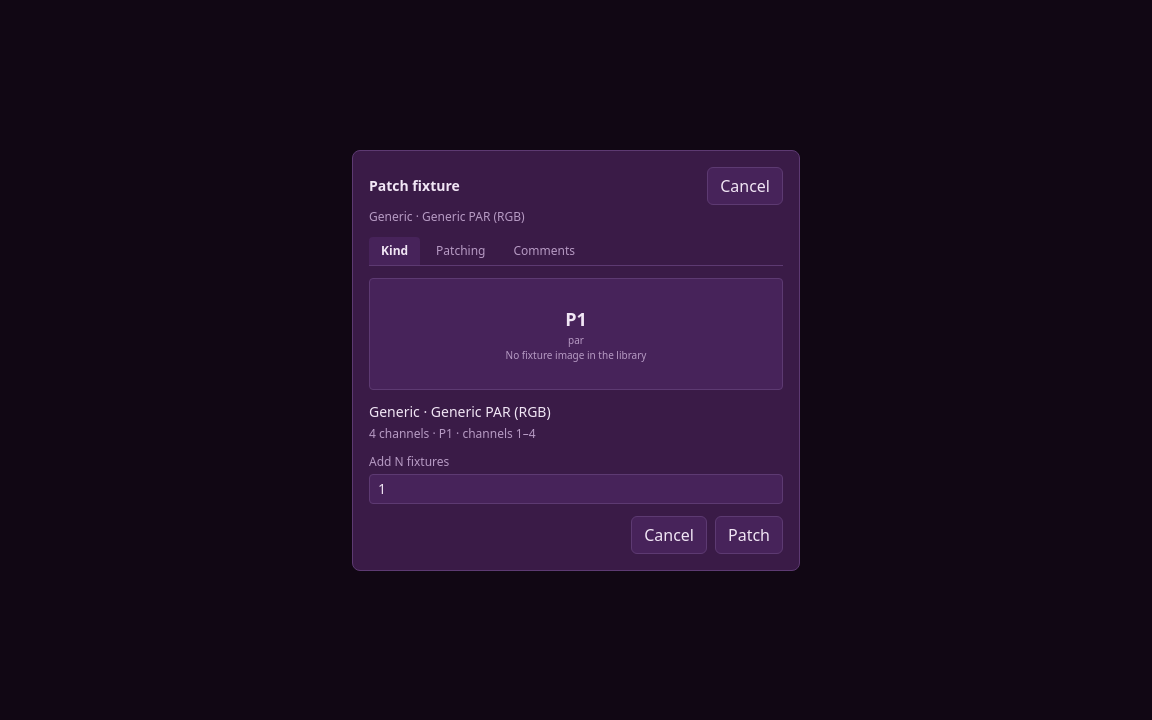
Test case: Patch dialog tabs › shows Kind, Patching and Comments tabs; the Kind tab has the model and channel count
Click the tab "Patching" at (461, 250), box [424,236,498,264]
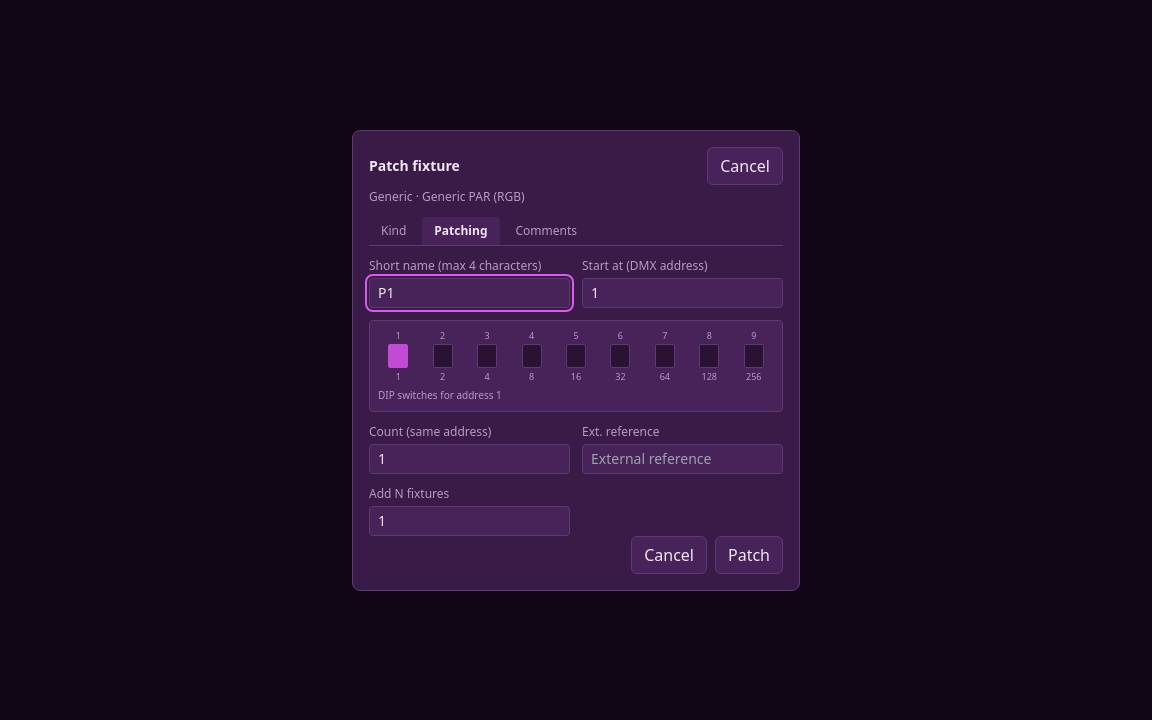
Expected: the field named "Short name" is shown, [369,278,570,308]
Now the element named "DIP switches for address 1" is shown, box [369,320,783,412]
Click the tab "Comments" at (546, 230), box [504,216,589,244]
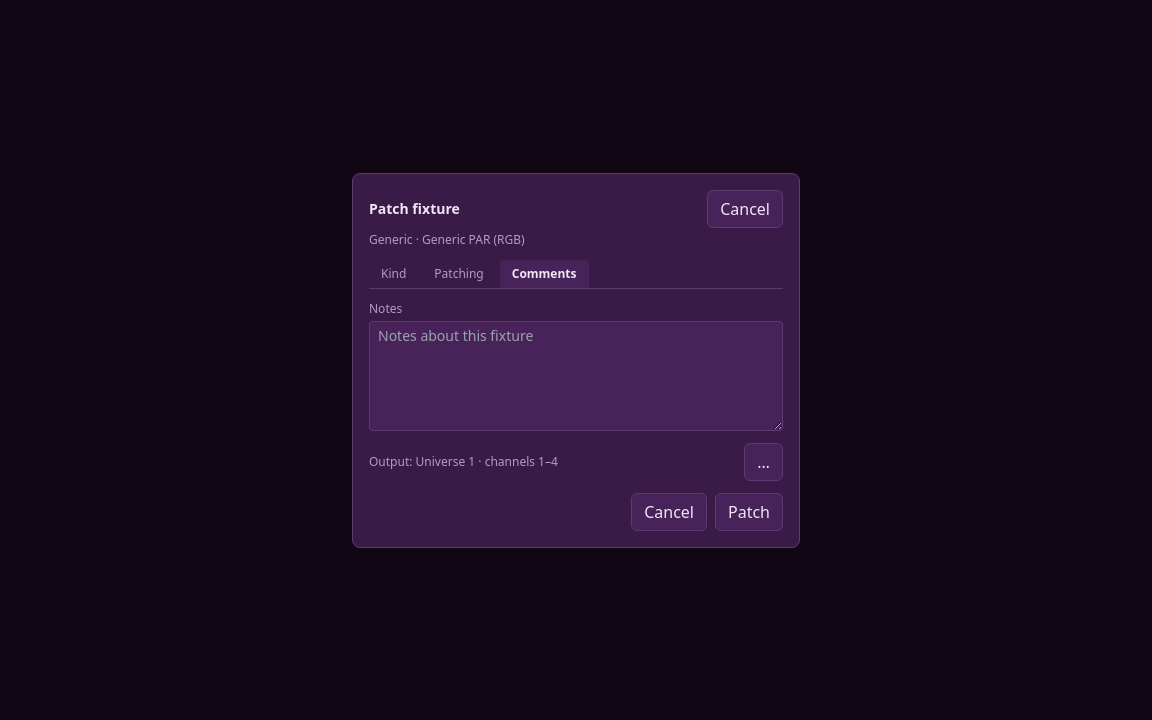
Now the text box named "Fixture notes" is shown, box [369,320,783,430]
Now the button named "Fixture actions" is shown, box [744,442,783,480]
